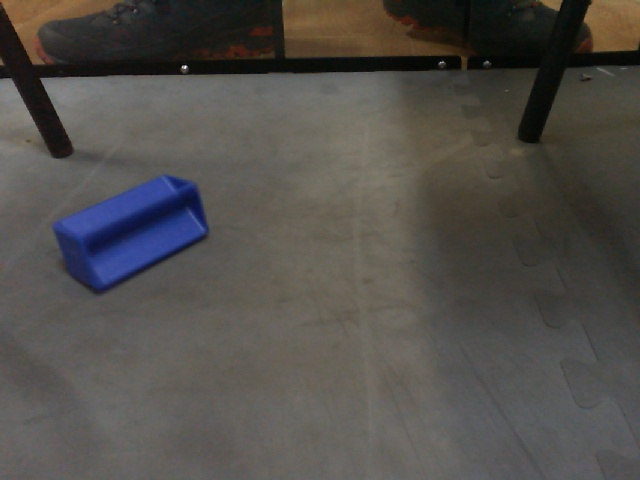BlueSample: (50, 173, 210, 294)
